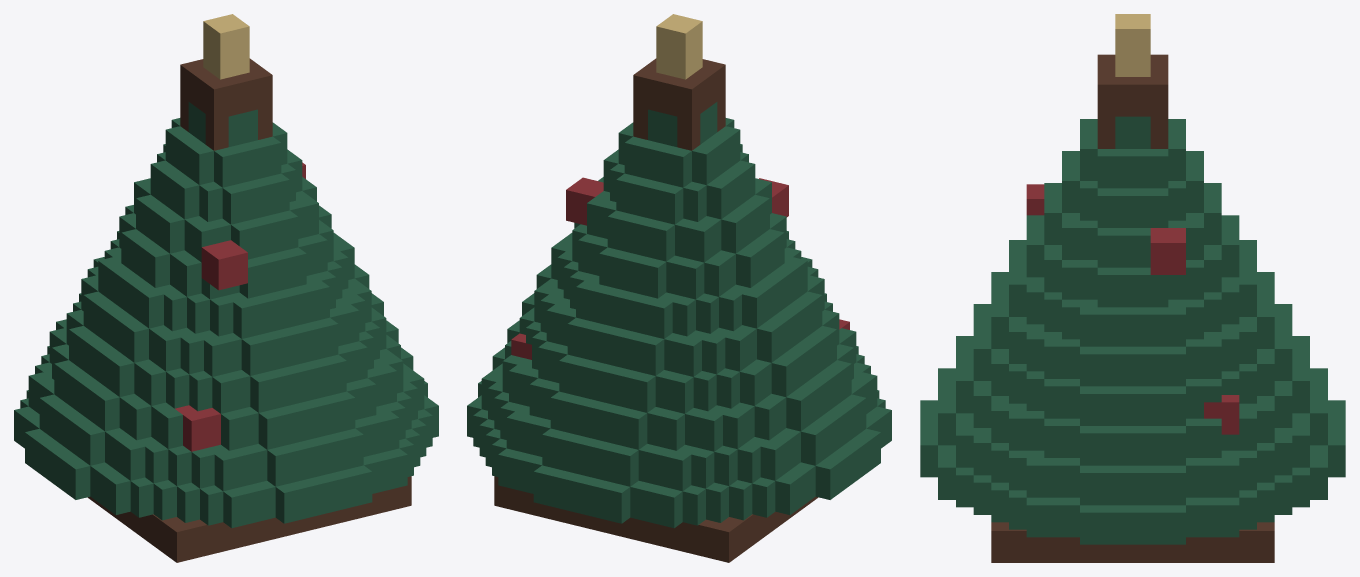
Rendered from landmark.glb.
3 views of the same model, side by side, from view 1: azimuth 30°, elevation 25°; view 2: azimuth 150°, elevation 25°; view 3: azimuth 270°, elevation 25° (orthographic). The views are drawn at different scales.
Parts seen in each view (by area): view 1: Shell; view 2: Shell; view 3: Shell.
Part boxes in pixels (box(x1,y1,x2,y2)): Shell: box(14, 14, 438, 562); Shell: box(467, 14, 891, 562); Shell: box(920, 14, 1345, 562).
Bounding box in the file's own units: 3 × 3.75 × 3.
